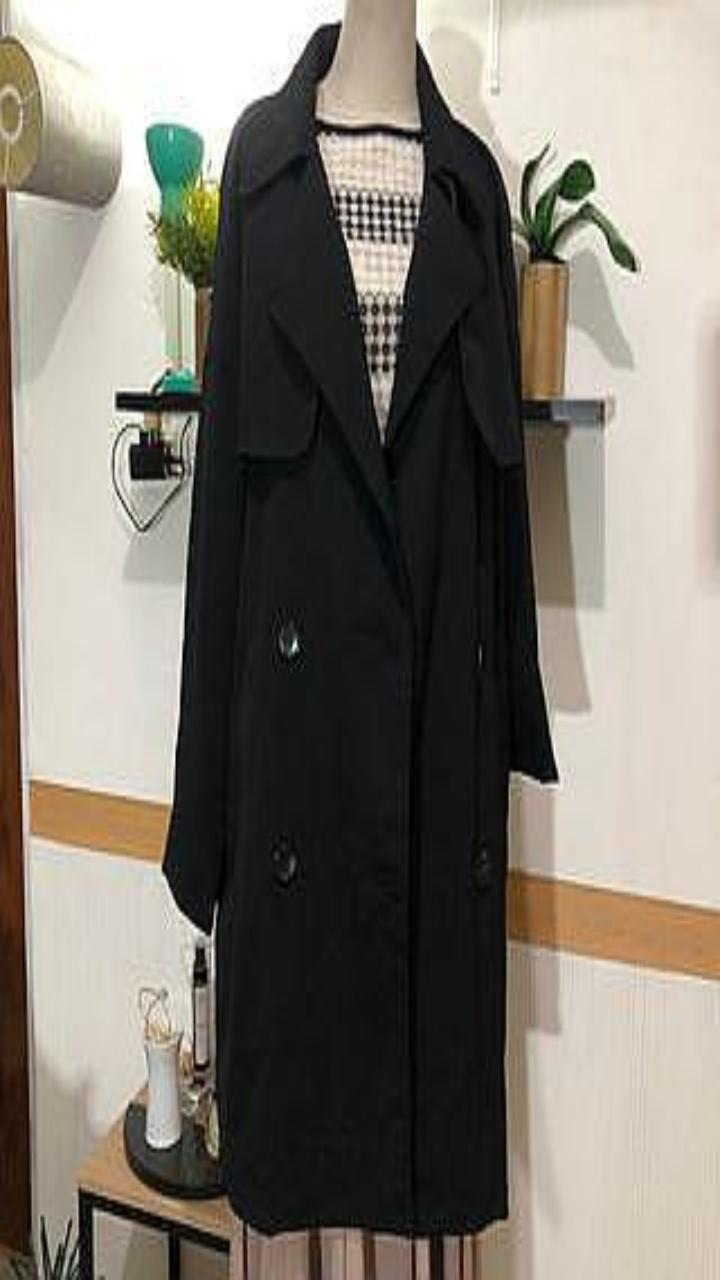Coat: (162, 23, 558, 1235)
T-Shirt: (316, 116, 423, 442)
